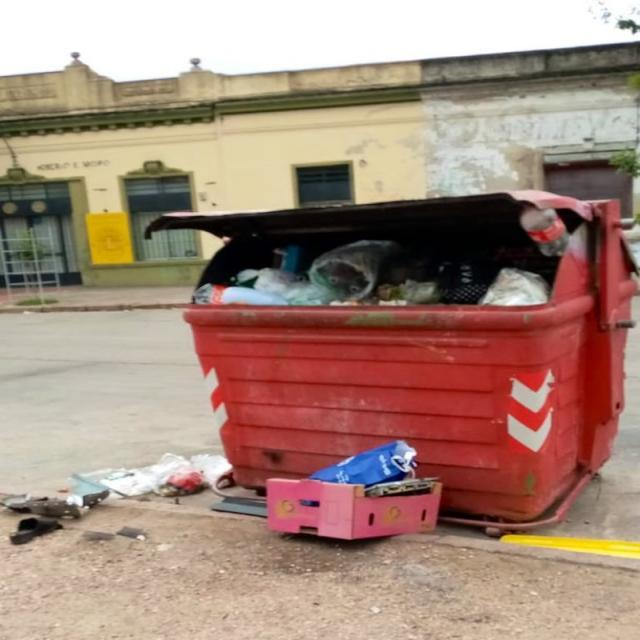garbage: (4, 422, 461, 562), (206, 235, 564, 318), (514, 205, 581, 262)
